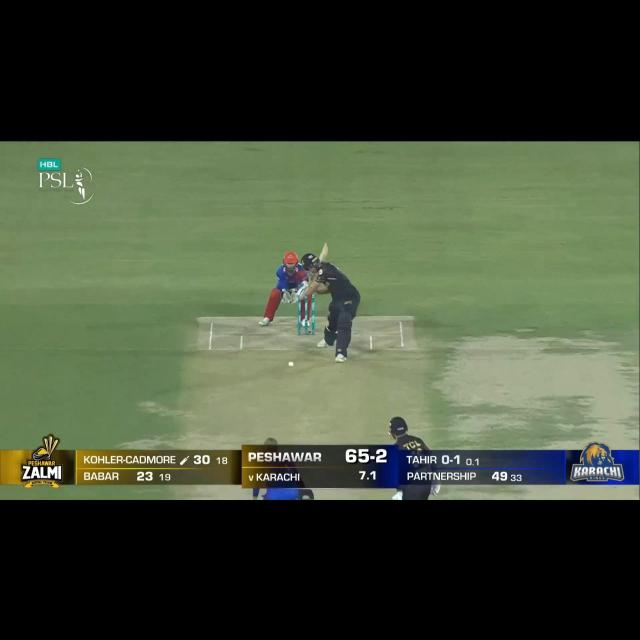bat: (318, 241, 333, 261)
toe: (324, 241, 329, 256)
